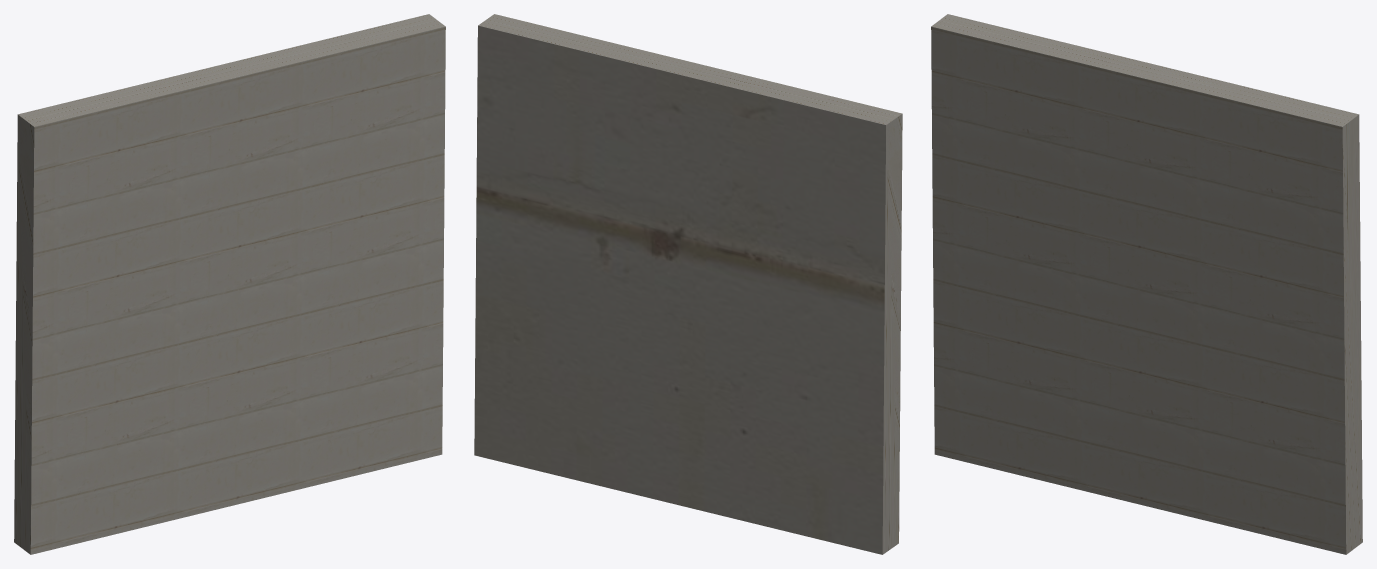
The model's file is Pared1.fbx.
3 renders of one model, left to right at view 1: azimuth 30°, elevation 25°; view 2: azimuth 150°, elevation 25°; view 3: azimuth 330°, elevation 25°, orthographic.
Visible parts, largest first — view 1: pCube4; view 2: pCube4; view 3: pCube4.
Boxes of the visible parts, <box> form: pCube4: <box>14,14,445,554</box>; pCube4: <box>474,14,902,554</box>; pCube4: <box>931,14,1362,554</box>.
Bounding box in the file's own units: 11.93 × 11.94 × 1.01.
1 material, 1 textured.
